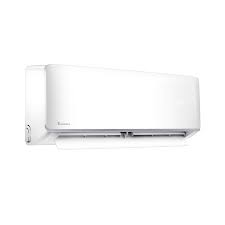ac: (20, 60, 204, 152)
